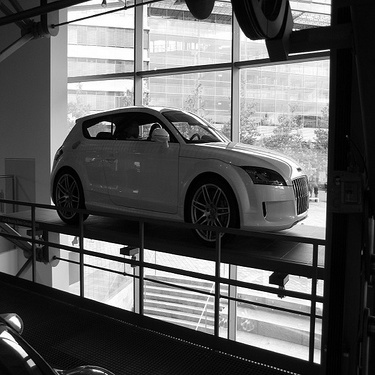car: (41, 85, 313, 239)
